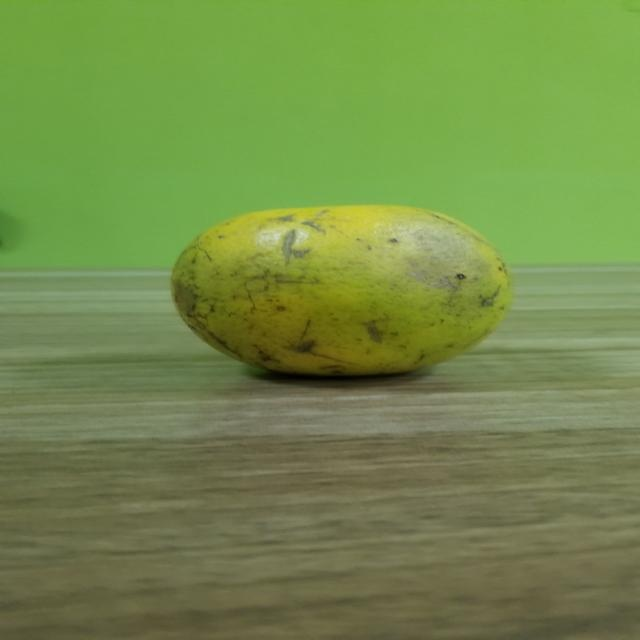agrume: (153, 199, 529, 388)
